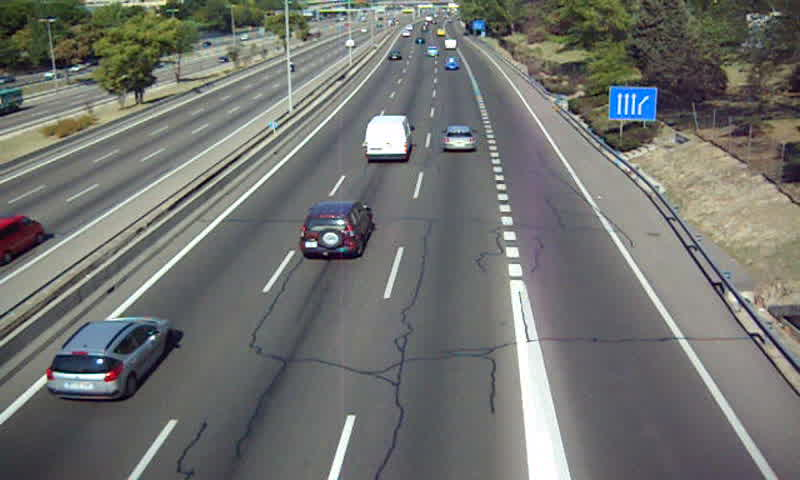car: (46, 318, 171, 398), (301, 202, 370, 259), (442, 126, 477, 152), (444, 56, 462, 72)
van: (365, 116, 413, 162)
